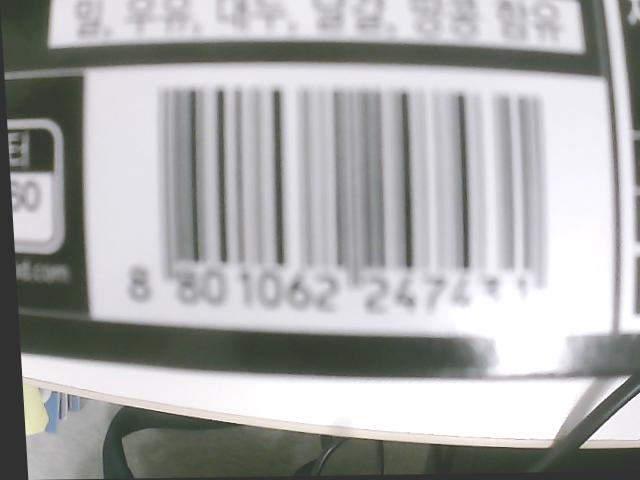chickchok-3400-2025-9-10: (107, 78, 582, 315)
